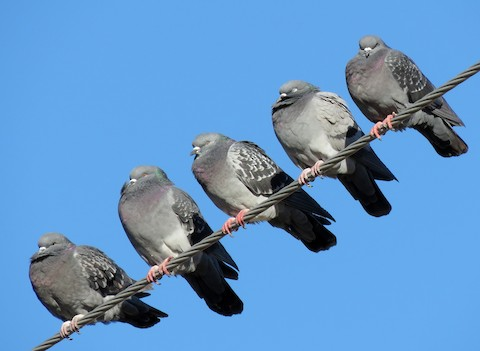pigeon: (115, 162, 251, 317), (186, 128, 341, 261), (266, 76, 406, 220), (340, 31, 468, 159), (25, 228, 170, 331)
